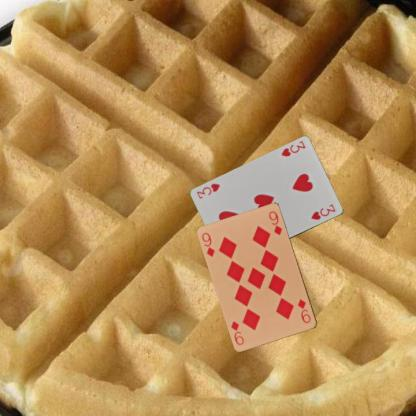3h: (278, 138, 307, 158)
9d: (199, 230, 217, 258), (295, 296, 312, 325)
